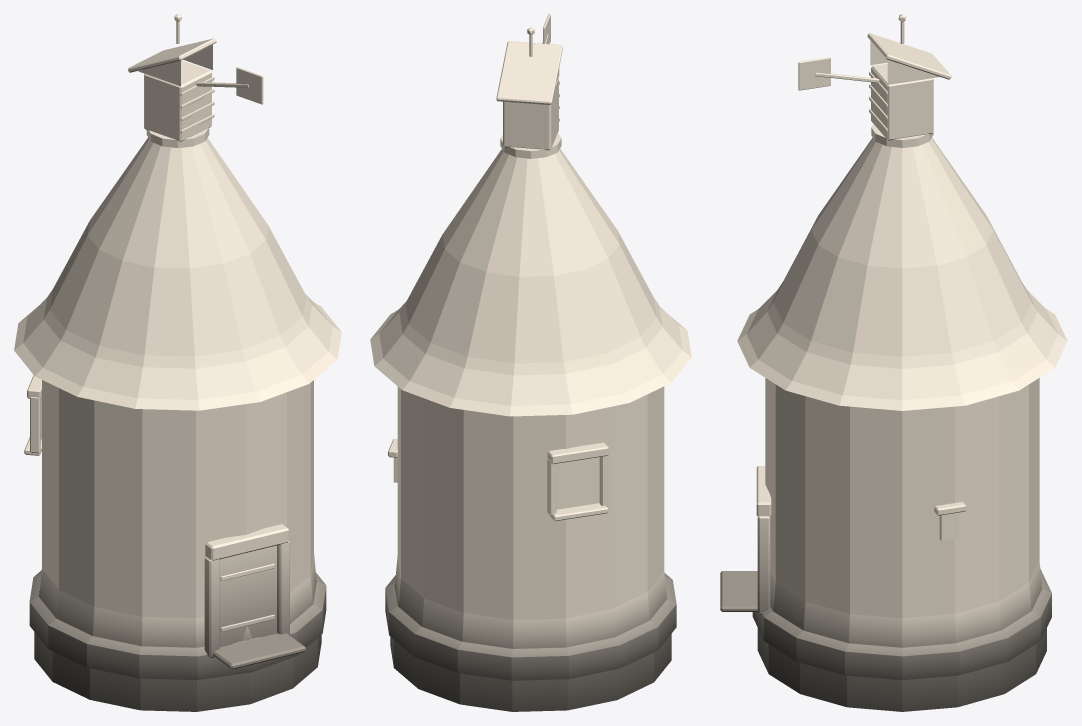
Rendered from SM_VK_Kiln_Oast.fbx.
The picture shows the model from 3 angles, left to right: view 1: azimuth 30°, elevation 25°; view 2: azimuth 150°, elevation 25°; view 3: azimuth 270°, elevation 25°; orthographic projection.
Parts seen in each view (by area): view 1: SM_VK_Kiln_Oast.001; view 2: SM_VK_Kiln_Oast.001; view 3: SM_VK_Kiln_Oast.001.
Boxes of the visible parts, left/top/right/bottom form: SM_VK_Kiln_Oast.001: left=14, top=14, right=341, bottom=711; SM_VK_Kiln_Oast.001: left=370, top=14, right=691, bottom=711; SM_VK_Kiln_Oast.001: left=720, top=14, right=1067, bottom=711.
Bounding box in the file's own units: 5.3 × 11.27 × 5.57.
